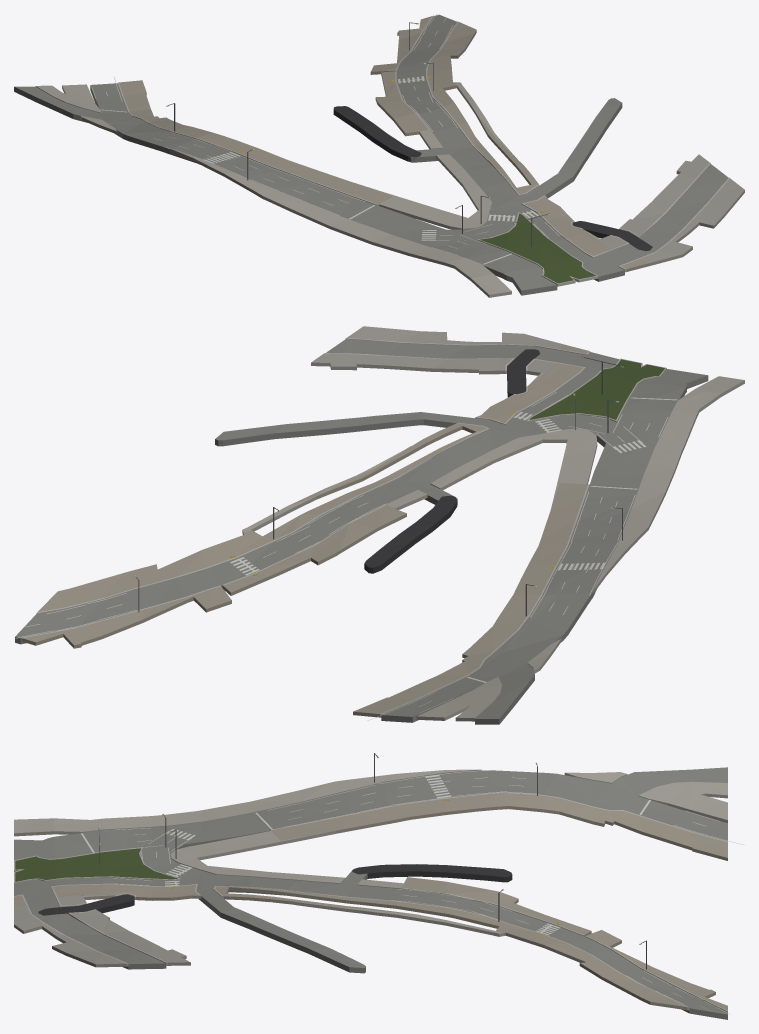
3 renders of one model, top to bottom at view 1: azimuth 30°, elevation 25°; view 2: azimuth 150°, elevation 25°; view 3: azimuth 270°, elevation 25°, orthographic. The views are drawn at different scales.
Size of the model in its own units: 104 by 19.01 by 149.
